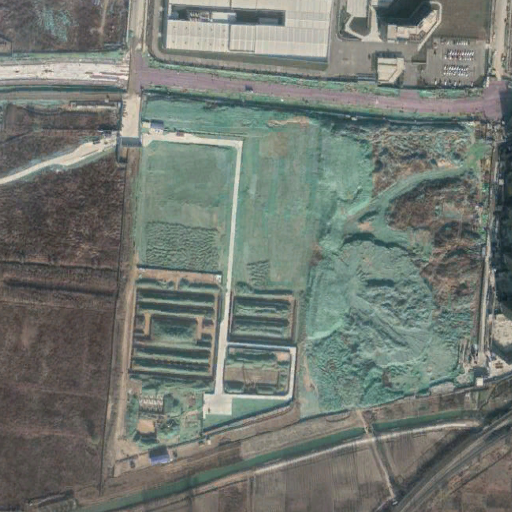cw: (124, 92, 492, 445)
